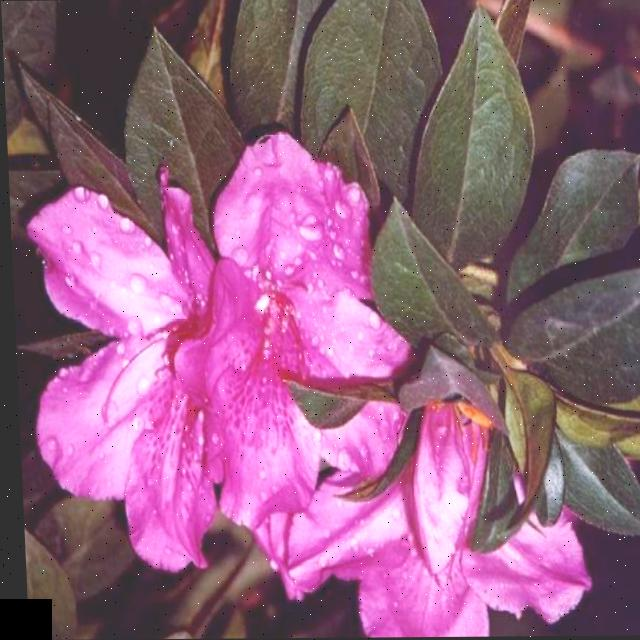azalea: (32, 166, 567, 639)
